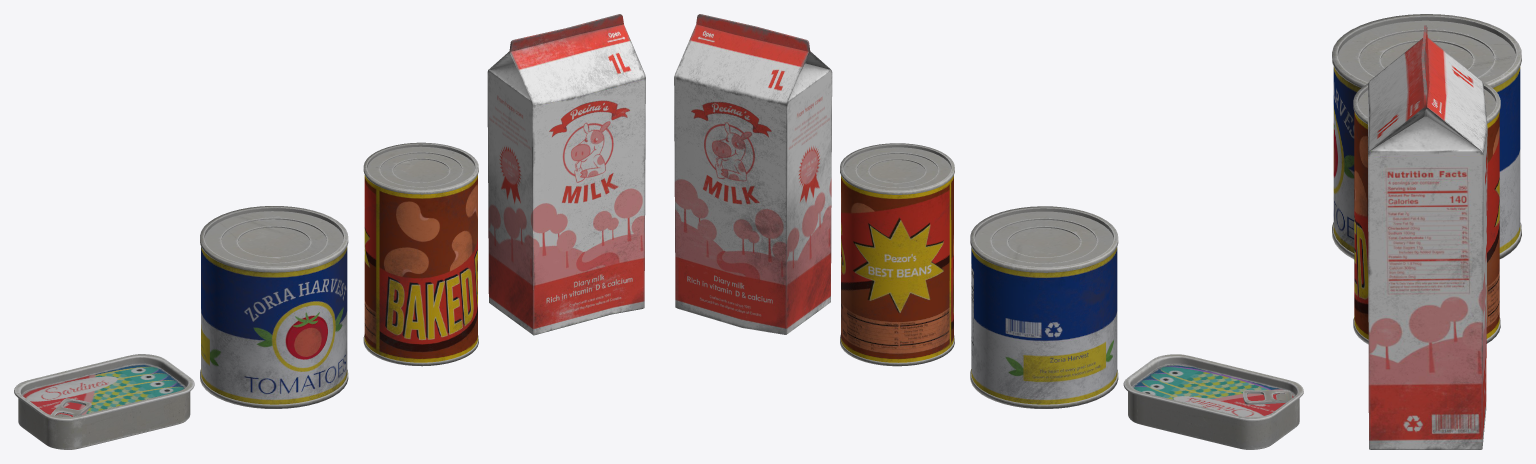
Rendered from long_life_food_4k.glb.
3 views of the same model, side by side, from view 1: azimuth 30°, elevation 25°; view 2: azimuth 150°, elevation 25°; view 3: azimuth 270°, elevation 25° (orthographic). The views are drawn at different scales.
Parts seen in each view (by area): view 1: long_life_food_milk, long_life_food_tomatoes, long_life_food_beans, long_life_food_sardines; view 2: long_life_food_milk, long_life_food_tomatoes, long_life_food_beans, long_life_food_sardines; view 3: long_life_food_milk, long_life_food_tomatoes, long_life_food_beans.
Part boxes in pixels (left/top/right/bottom): long_life_food_milk: left=487, top=14, right=645, bottom=335; long_life_food_tomatoes: left=200, top=206, right=348, bottom=408; long_life_food_beans: left=363, top=142, right=478, bottom=366; long_life_food_sardines: left=14, top=354, right=194, bottom=449; long_life_food_milk: left=674, top=14, right=832, bottom=334; long_life_food_tomatoes: left=970, top=206, right=1118, bottom=408; long_life_food_beans: left=840, top=143, right=954, bottom=366; long_life_food_sardines: left=1123, top=354, right=1303, bottom=449; long_life_food_milk: left=1368, top=25, right=1487, bottom=449; long_life_food_tomatoes: left=1332, top=14, right=1521, bottom=259; long_life_food_beans: left=1353, top=81, right=1500, bottom=344.
Bounding box in the file's own units: 0.5238 × 0.2376 × 0.1136.
1 material, 1 textured.
